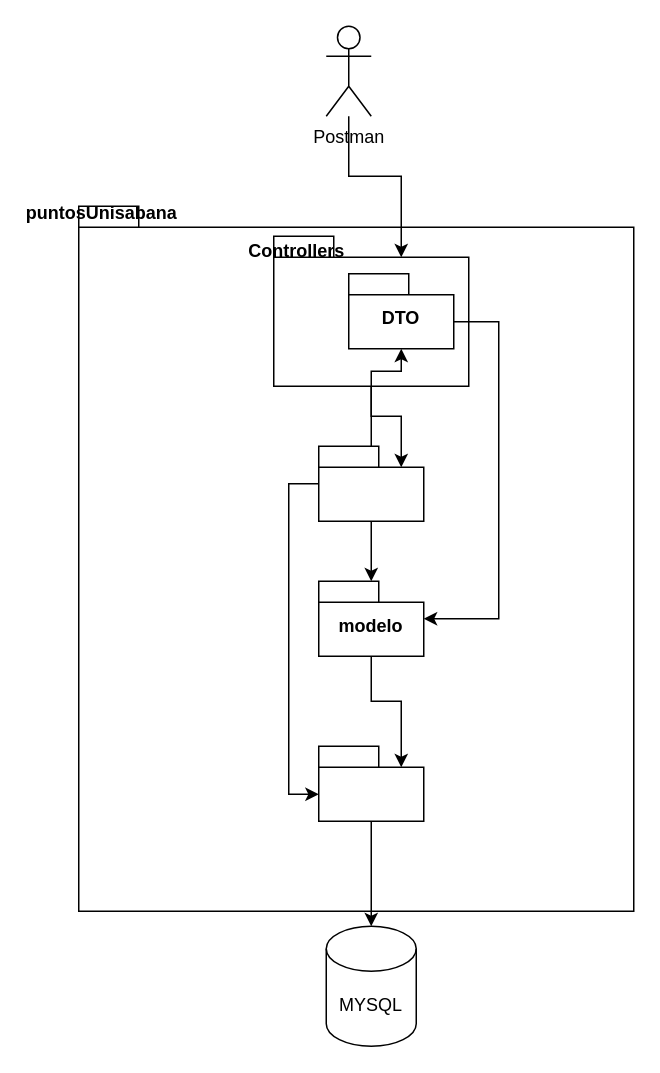
This 660x1073 diagram has some shape labels left out. The centre of each missing label's shape, as x and y in pixels:
logica: the point at 370,483
Repository: the point at 370,783
